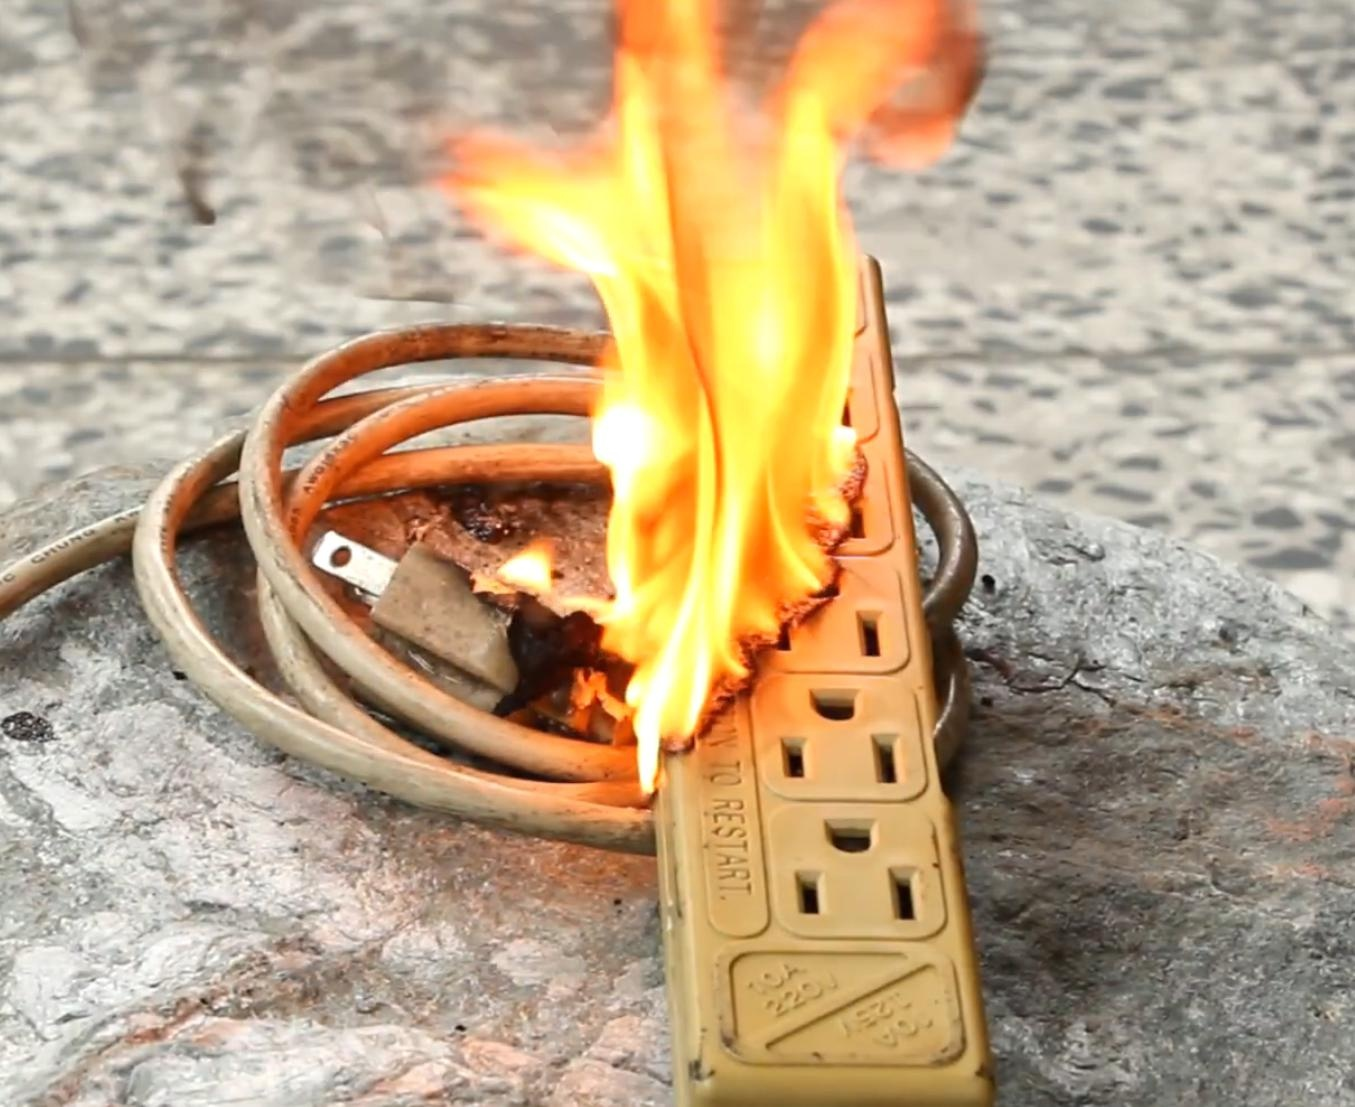fire: (409, 0, 953, 791)
